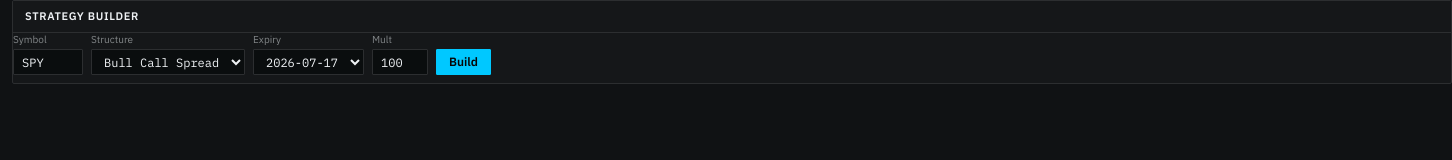
Test: StrategyBuilderPanel › shows two expiration selectors for a calendar
The image size is (1452, 160).
expect the dropdown showing "2026-07-17" is shown: met, box [253, 49, 364, 75]
Select "Call Calendar" in the dropdown showing "Bull Call Spread" at (168, 62), box [91, 49, 245, 75]
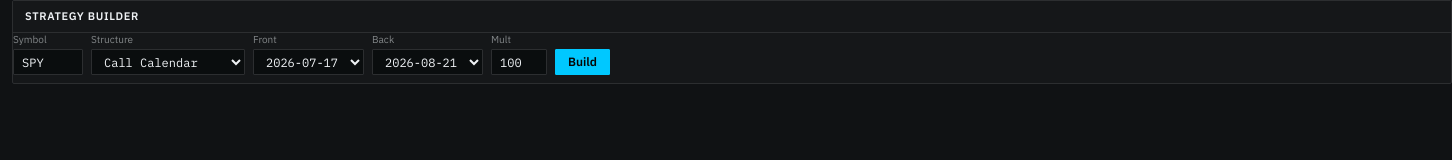
expect the text "Front" is shown: met, box [253, 33, 364, 75]
expect the text "Back" is shown: met, box [372, 33, 483, 75]
